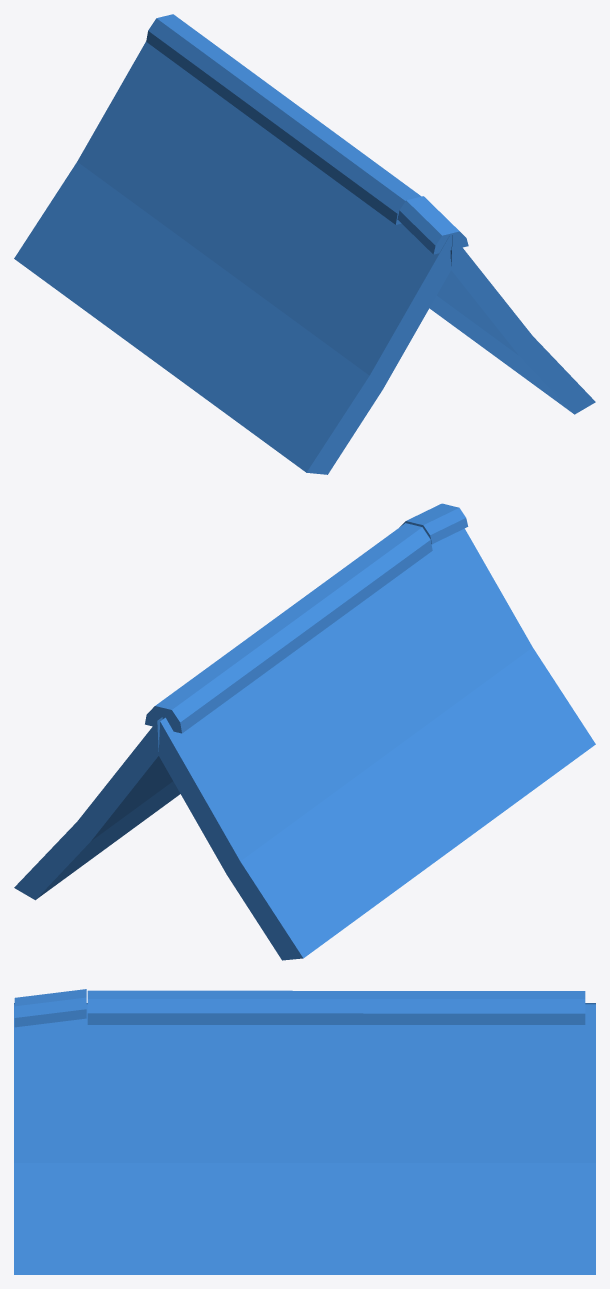
Rendered from Collision_Roof_FlatTiles_4x8.fbx.
3 views of the same model, one above another, from view 1: azimuth 30°, elevation 25°; view 2: azimuth 150°, elevation 25°; view 3: azimuth 270°, elevation 25° (orthographic).
Parts seen in each view (by area): view 1: UCX_Roof_FlatTiles_4x8_01; view 2: UCX_Roof_FlatTiles_4x8_01; view 3: UCX_Roof_FlatTiles_4x8_01.
Boxes of the visible parts, x1=… form: UCX_Roof_FlatTiles_4x8_01: x1=14, y1=14, x2=595, y2=474; UCX_Roof_FlatTiles_4x8_01: x1=14, y1=503, x2=595, y2=960; UCX_Roof_FlatTiles_4x8_01: x1=14, y1=989, x2=595, y2=1274.
Bounding box in the file's own units: 555 × 403 × 971.
